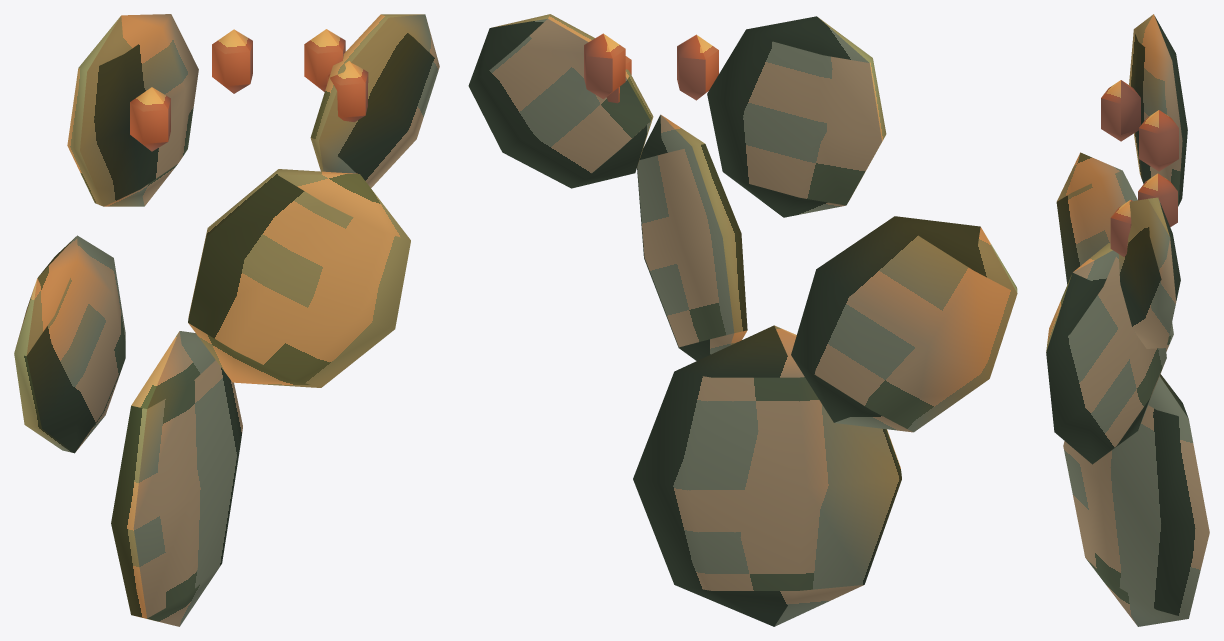
Rendered from wprop.cactus__prickly.glb.
3 renders of one model, left to right at view 1: azimuth 30°, elevation 25°; view 2: azimuth 150°, elevation 25°; view 3: azimuth 270°, elevation 25°, orthographic. The views are drawn at different scales.
Parts seen in each view (by area): view 1: kit_pads, kit_fruit; view 2: kit_pads, kit_fruit; view 3: kit_pads, kit_fruit.
Boxes of the visible parts, x1,y1,x2,y2 form: kit_pads: (14,14,439,626); kit_fruit: (130,29,368,151); kit_pads: (468,14,1017,626); kit_fruit: (584,33,718,103); kit_pads: (1046,14,1209,626); kit_fruit: (1101,80,1178,256).
Size of the model in its own units: 1.09 by 1.34 by 0.336.
2 materials, 2 textured.
